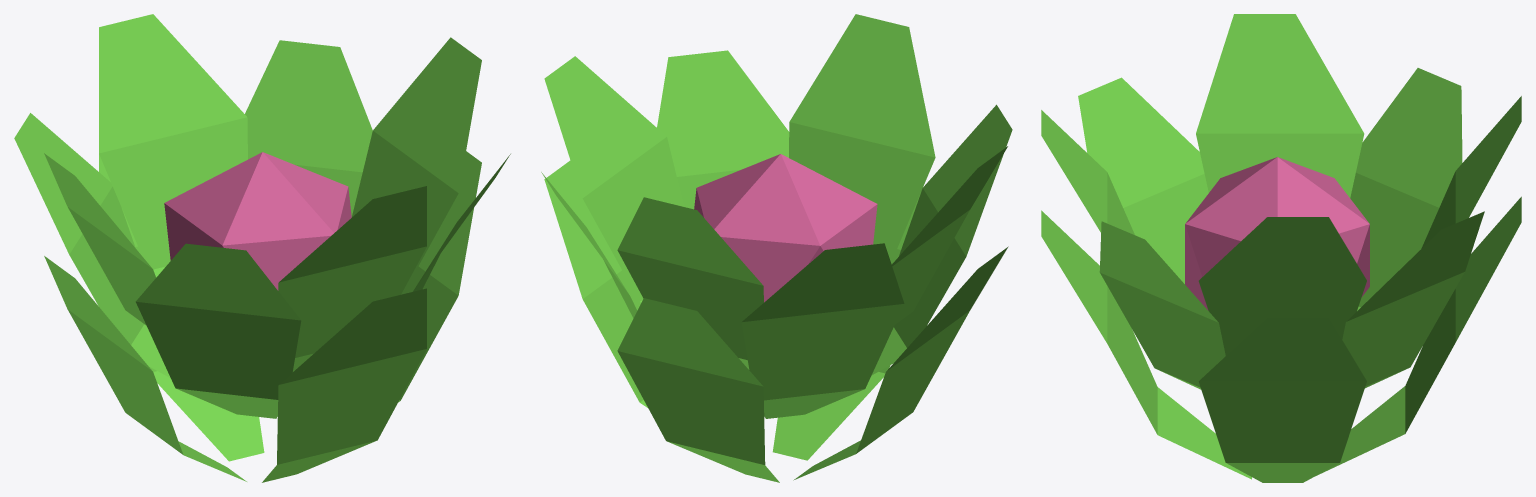
Rendered from result.gltf.
3 renders of one model, left to right at view 1: azimuth 30°, elevation 25°; view 2: azimuth 150°, elevation 25°; view 3: azimuth 270°, elevation 25°, orthographic.
Parts seen in each view (by area): view 1: Plant_6; view 2: Plant_6; view 3: Plant_6.
Boxes of the visible parts, x1,y1,x2,y2 form: Plant_6: [14, 14, 510, 482]; Plant_6: [541, 14, 1012, 482]; Plant_6: [1041, 14, 1521, 482].
Bounding box in the file's own units: 84.03 × 68.49 × 84.03.
